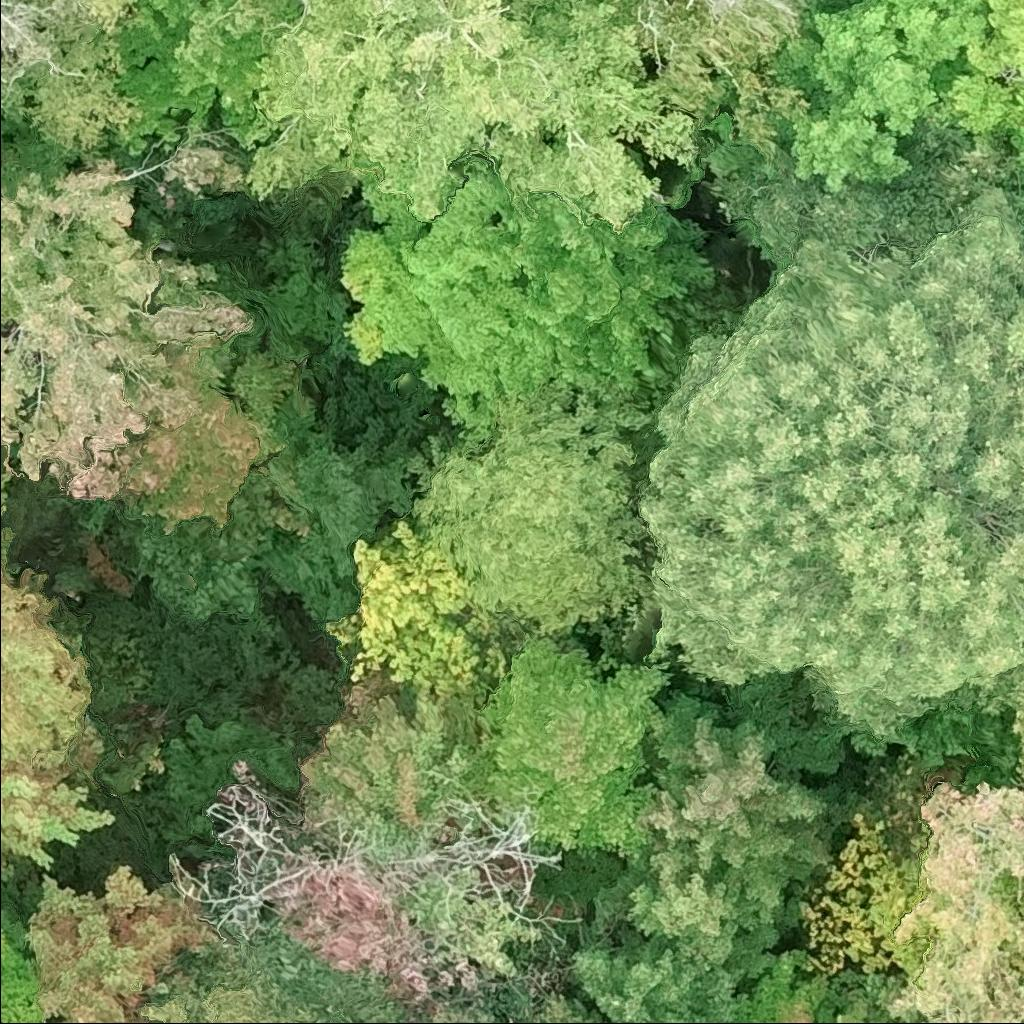crown: (632, 113, 1023, 735), (0, 142, 305, 534), (339, 150, 717, 446), (240, 0, 692, 230), (590, 675, 857, 978), (406, 377, 650, 639), (0, 461, 124, 881), (764, 0, 1023, 197), (271, 865, 552, 1023), (883, 711, 1023, 1023), (477, 638, 674, 857), (298, 663, 494, 853), (321, 516, 512, 690), (599, 0, 818, 143), (27, 865, 222, 1023), (797, 811, 930, 978), (0, 0, 135, 153), (572, 927, 747, 1023), (738, 950, 900, 1023), (140, 966, 333, 1023), (418, 993, 613, 1023), (0, 922, 50, 1023), (995, 132, 1023, 220), (400, 1018, 412, 1023)
